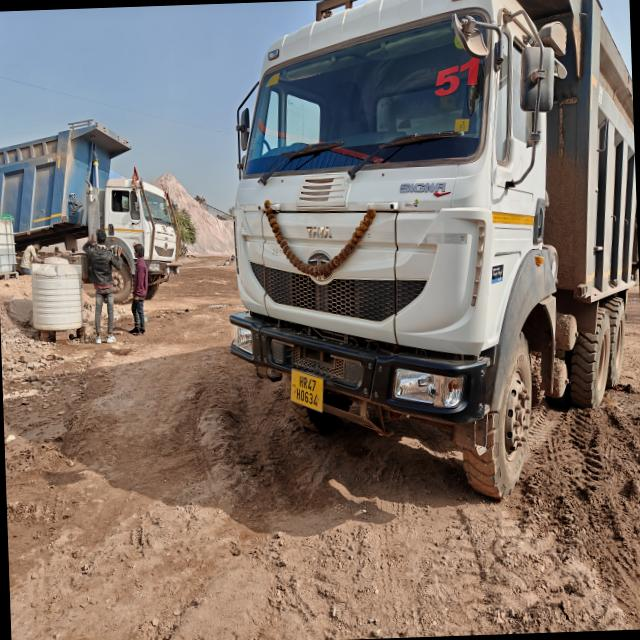license_plate: (291, 369, 323, 412)
